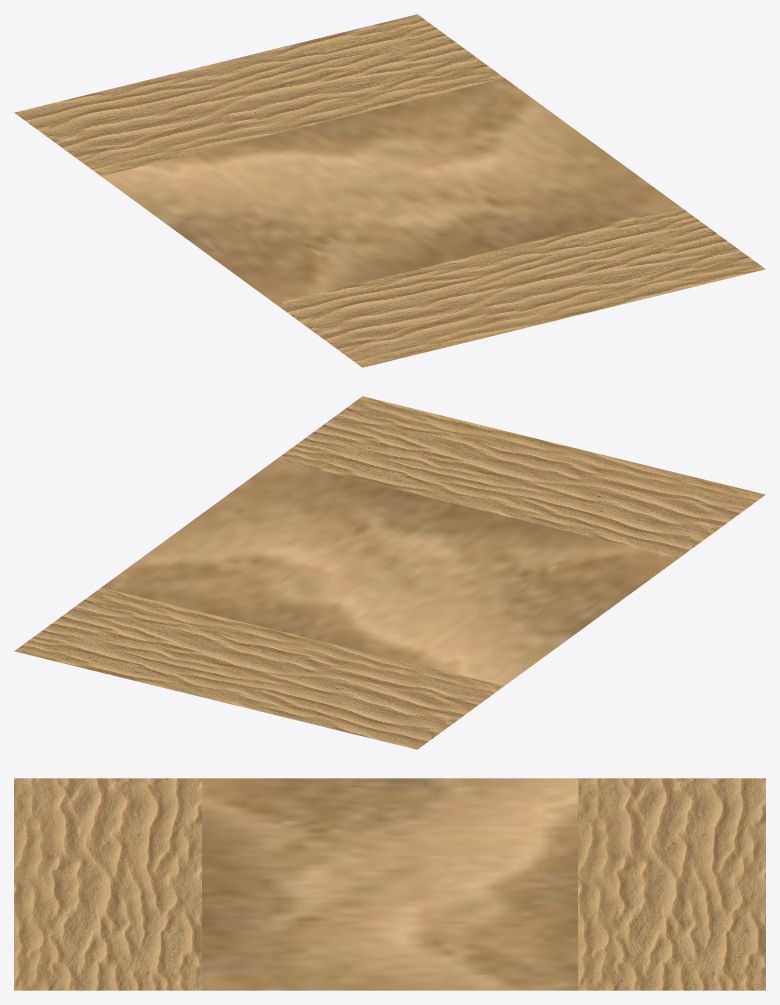
The model's file is sand.fbx.
The picture shows the model from 3 angles, top to bottom: view 1: azimuth 30°, elevation 25°; view 2: azimuth 150°, elevation 25°; view 3: azimuth 270°, elevation 25°; orthographic projection. The views are drawn at different scales.
Parts seen in each view (by area): view 1: Cube; view 2: Cube; view 3: Cube.
Boxes of the visible parts, box(x1,y1,x2,y2) form: Cube: box(14, 14, 765, 367); Cube: box(14, 396, 765, 749); Cube: box(14, 778, 765, 990).
Size of the model in its own units: 598 by 0.000241 by 895.
Materials: 1 (1 with a texture image).
